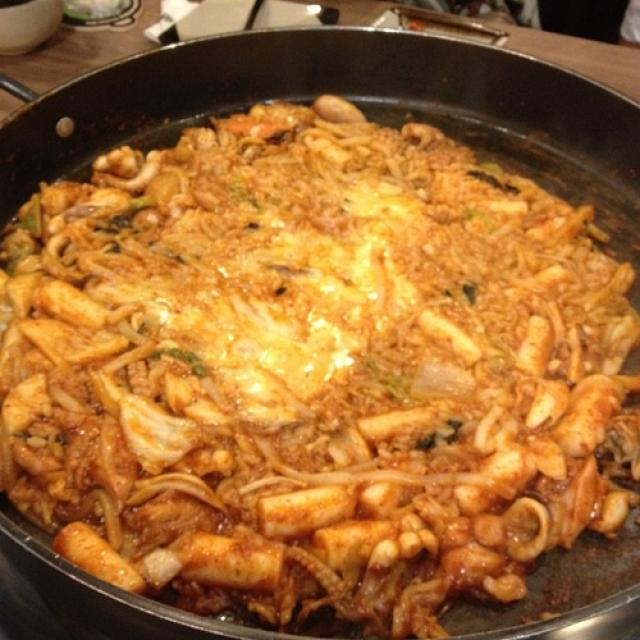鸡肉料理 含炸鸡: (4, 10, 635, 618)
